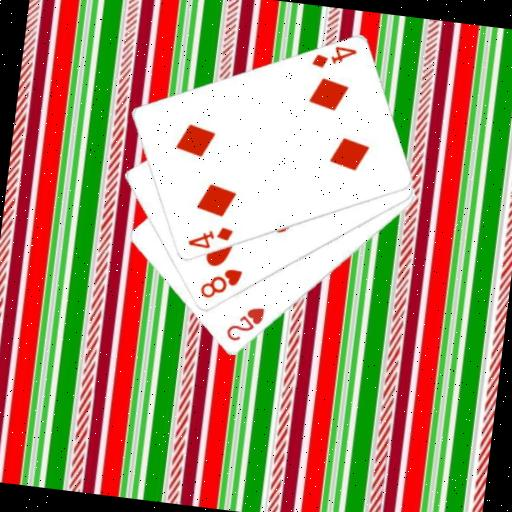2H: (222, 300, 267, 347)
4D: (184, 220, 236, 254), (308, 40, 360, 74)
8H: (196, 263, 246, 305)
